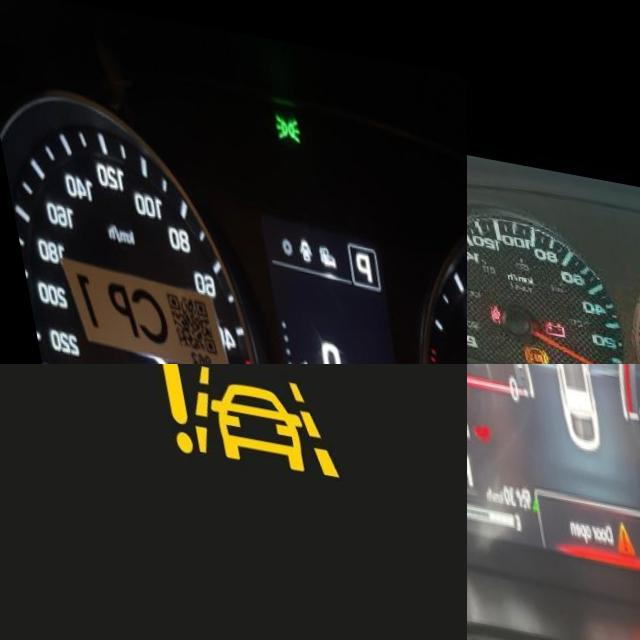Seat Belt: (475, 298, 493, 322)
